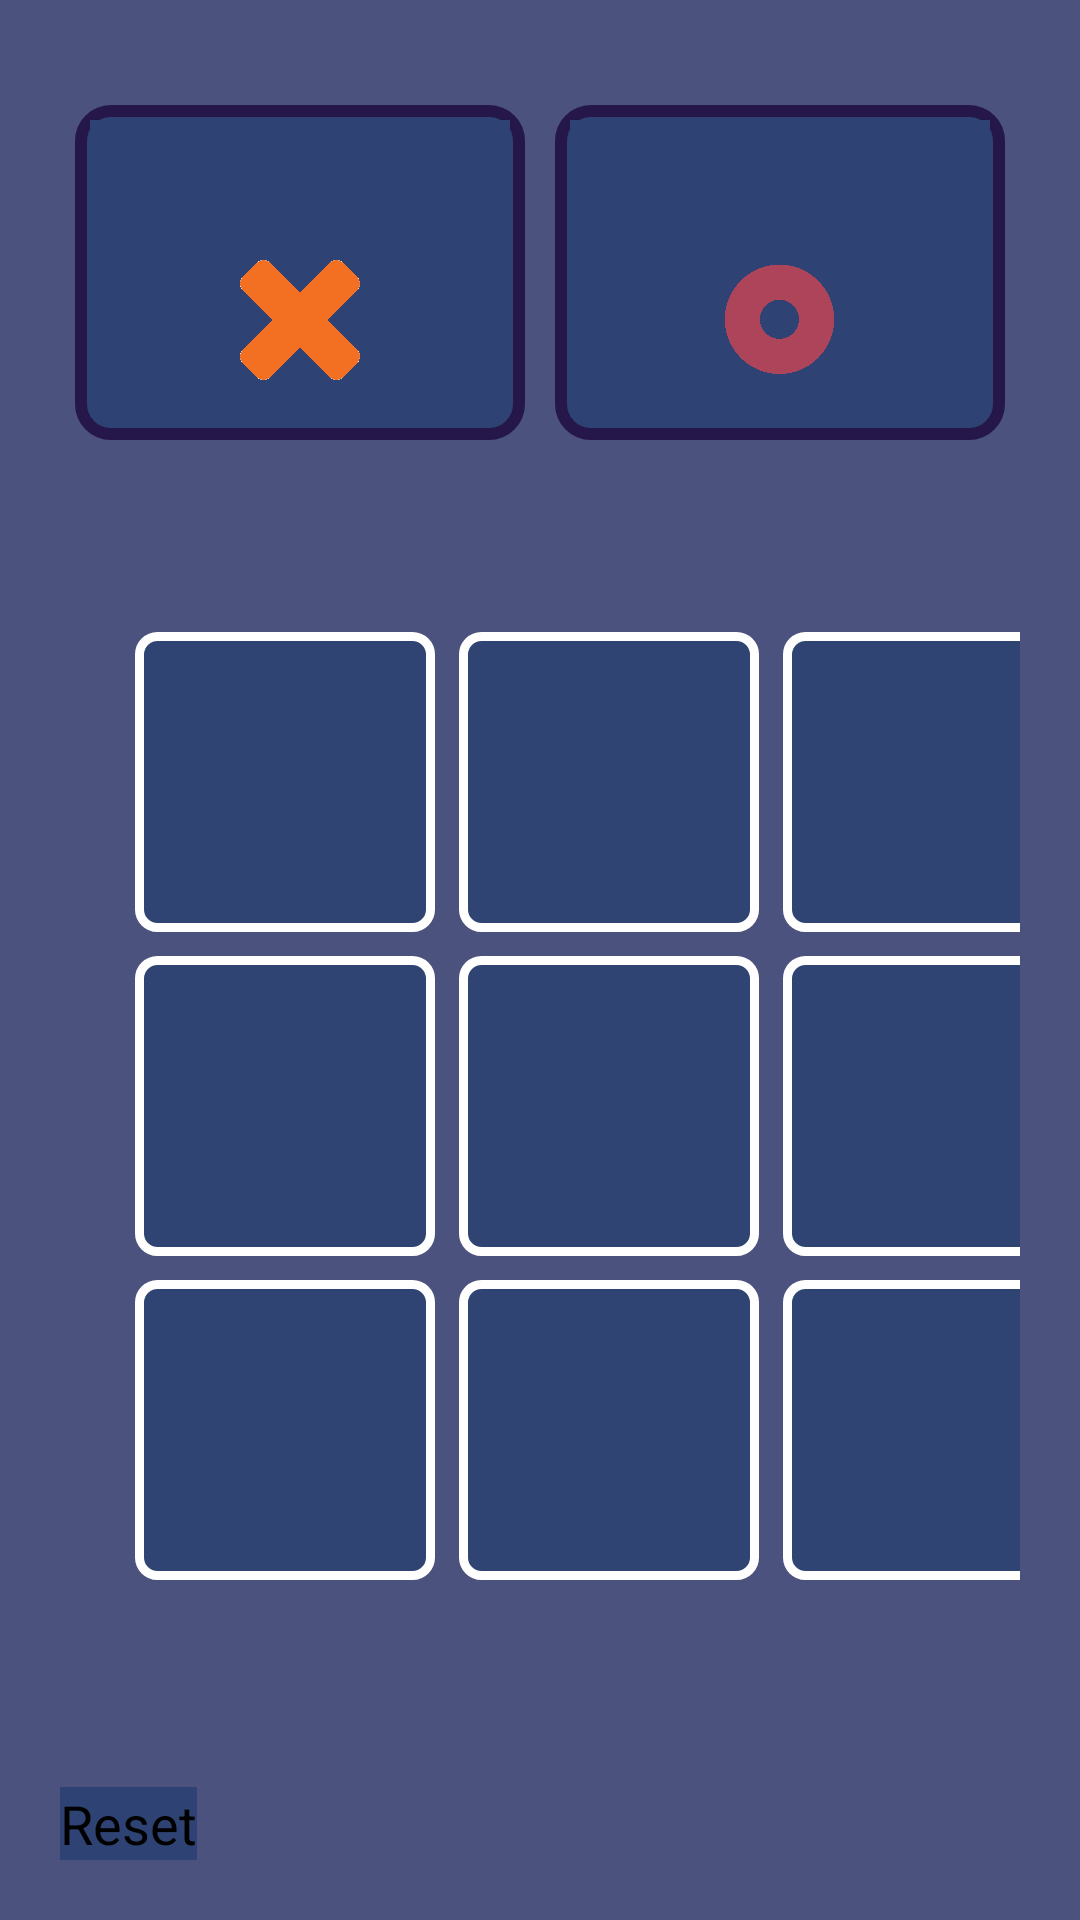

Icons on this 1080*1920 Android screen, each with its box as [x1,y1,x2,y2]:
zero: [725,265,834,374]
